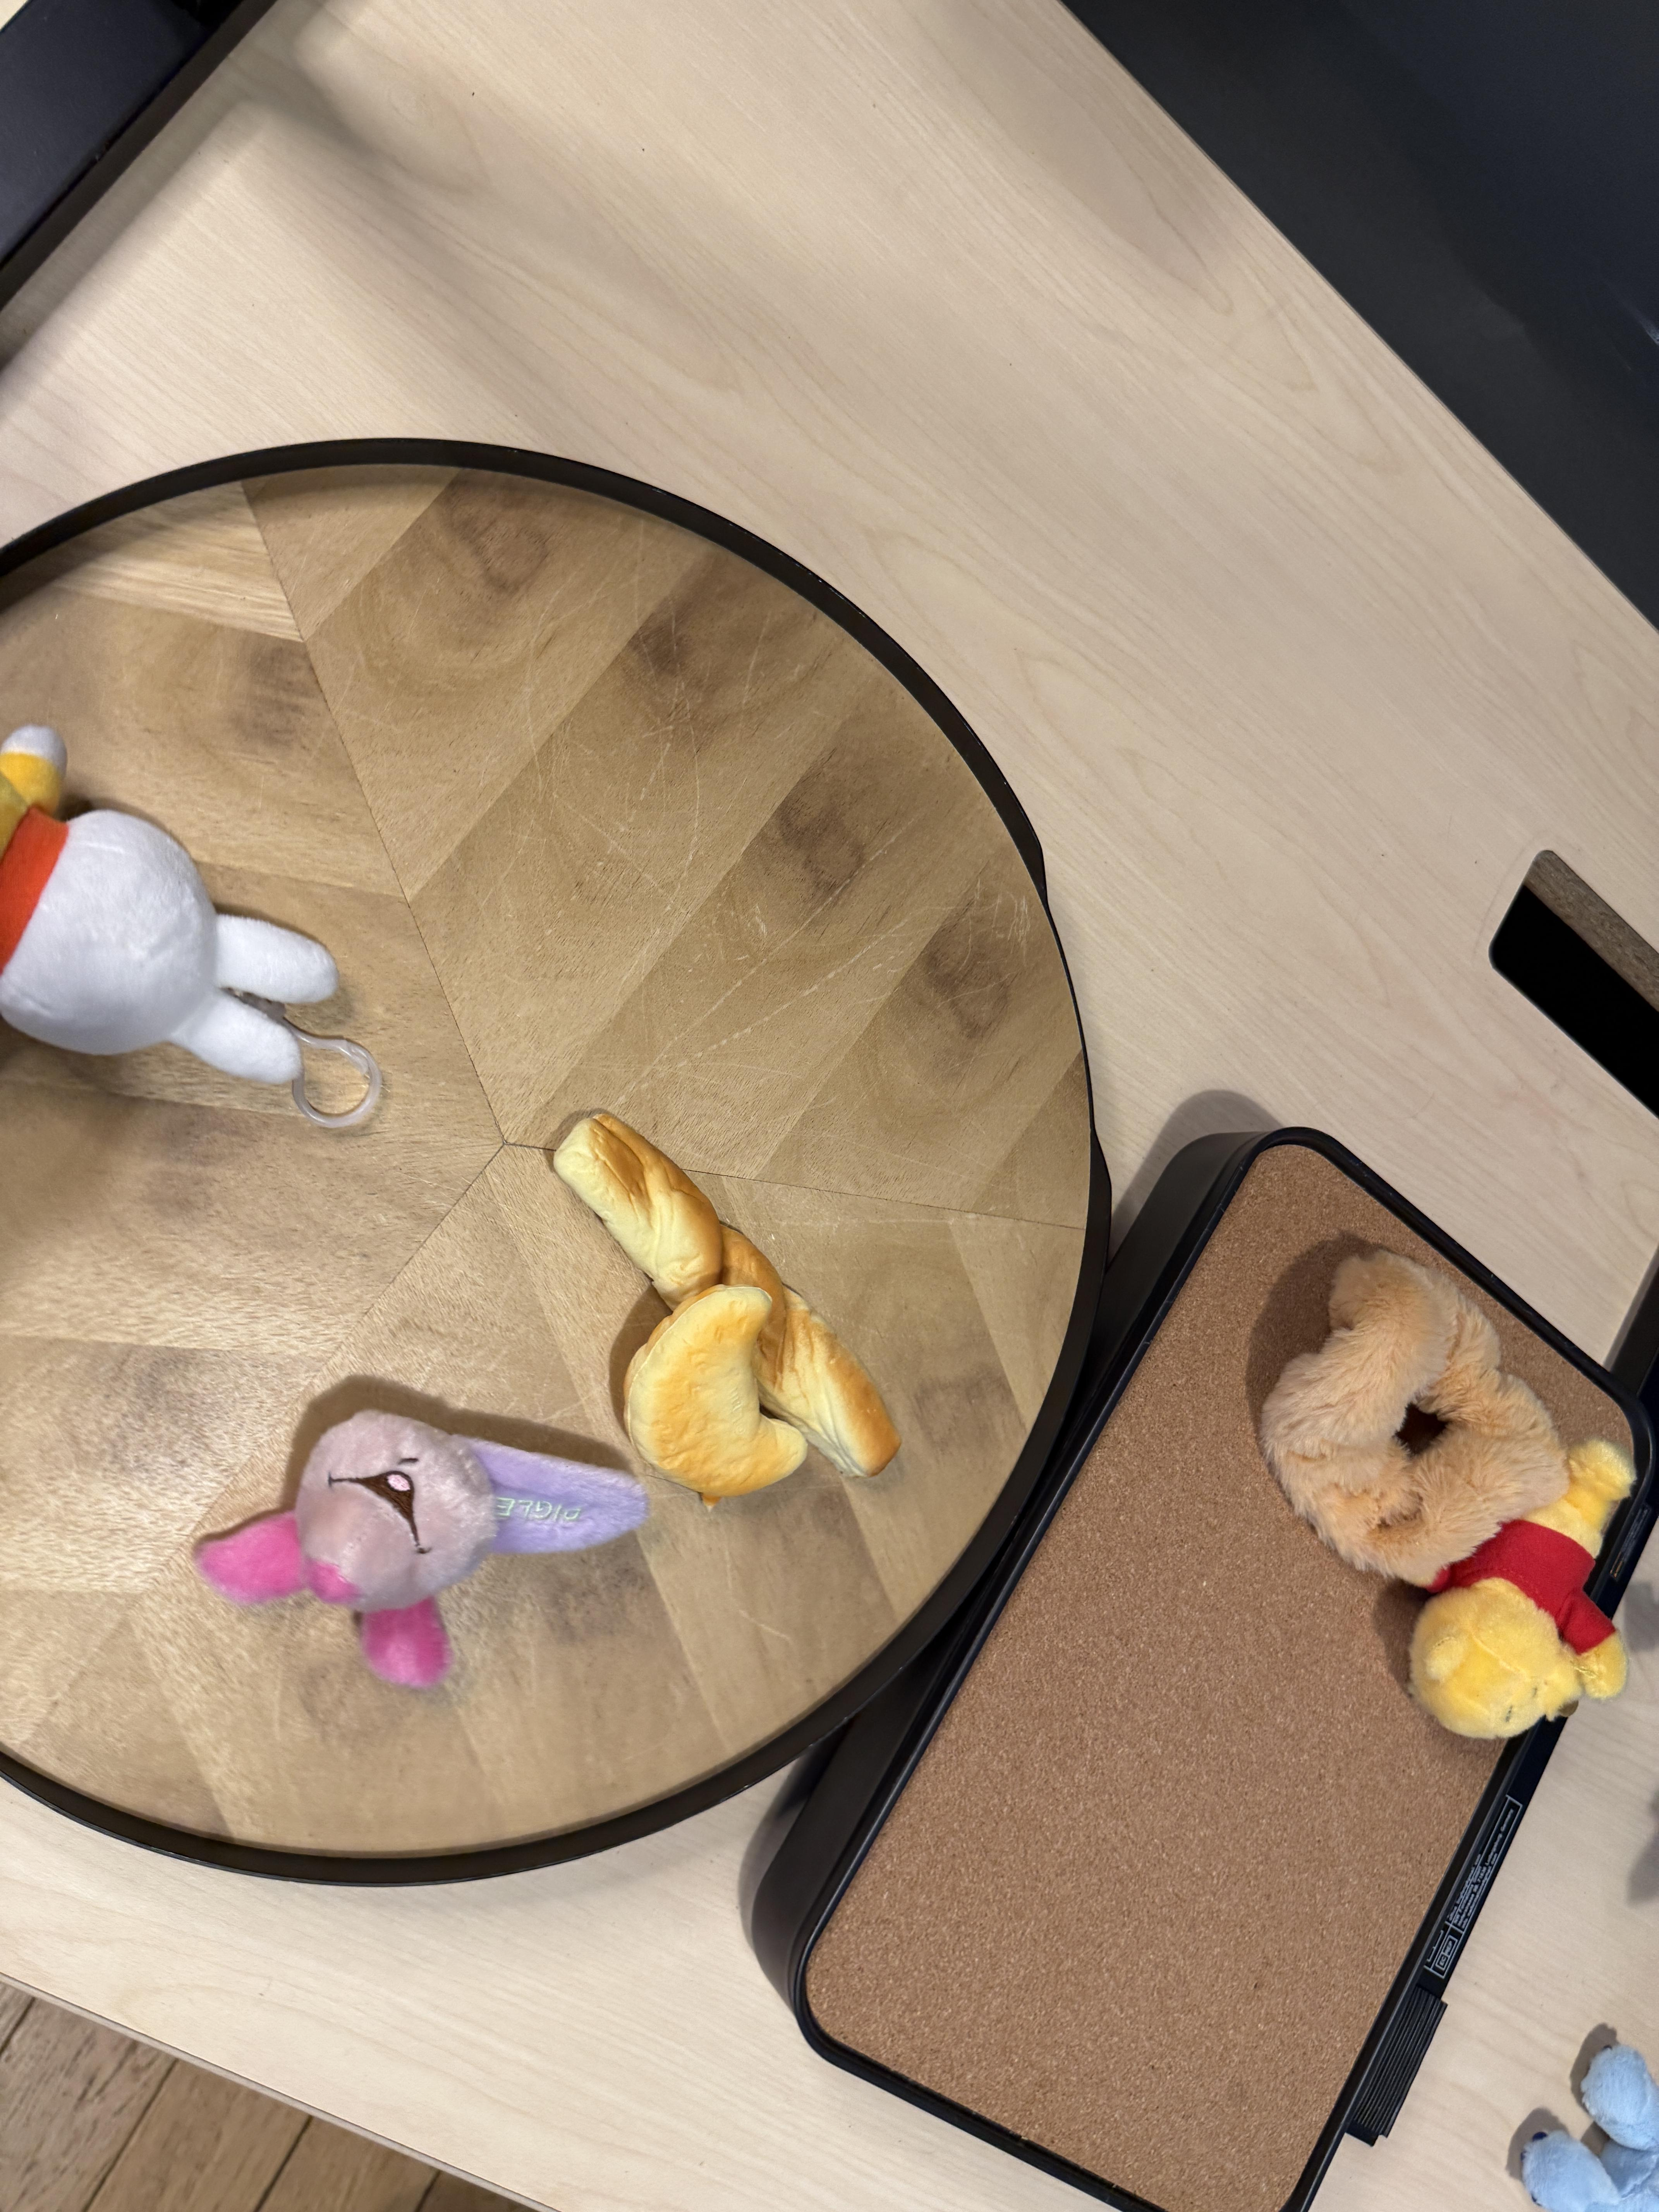bread: (554, 1104, 903, 1472), (627, 1298, 800, 1496)
doll: (1293, 1235, 1647, 1747), (193, 1399, 655, 1693), (0, 712, 350, 1087), (1506, 2022, 1659, 2212)
